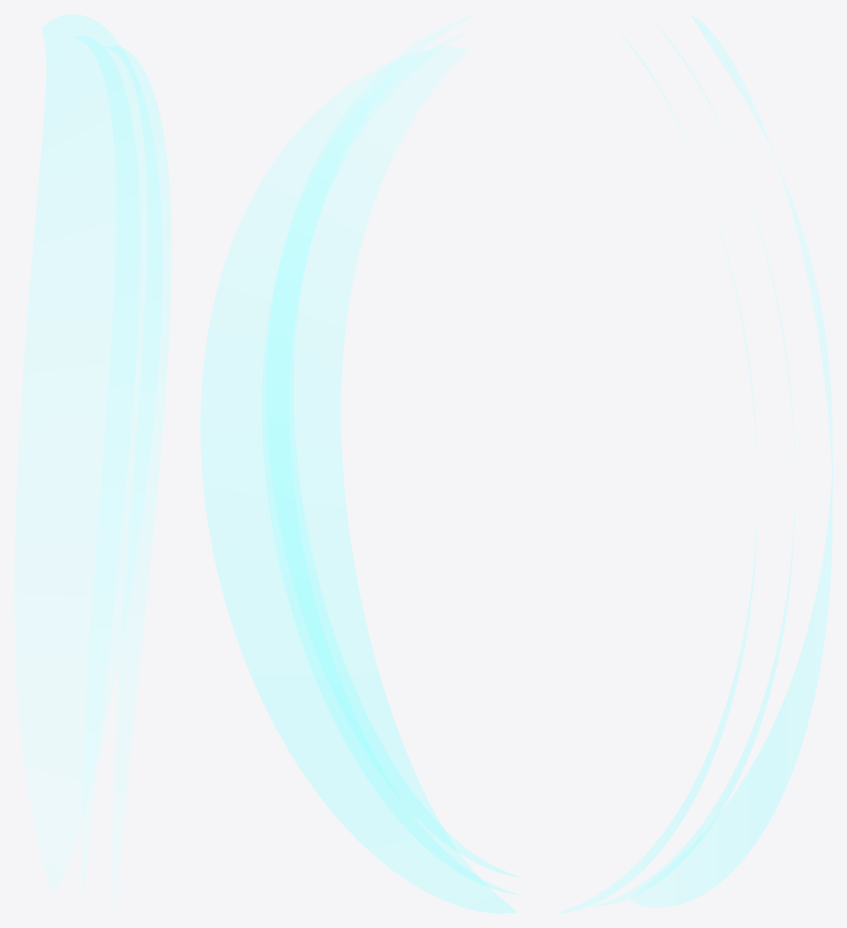
Rendered from qi-cleave-r3.glb.
The picture shows the model from 3 angles, left to right: view 1: azimuth 30°, elevation 25°; view 2: azimuth 150°, elevation 25°; view 3: azimuth 270°, elevation 25°; orthographic projection. The views are drawn at different scales.
Parts seen in each view (by area): view 1: qi-cleave-r3; view 2: qi-cleave-r3; view 3: qi-cleave-r3.
Boxes of the visible parts, x1=… form: qi-cleave-r3: x1=14, y1=14, x2=171, y2=909; qi-cleave-r3: x1=200, y1=15, x2=522, y2=913; qi-cleave-r3: x1=555, y1=14, x2=832, y2=913.
Size of the model in its own units: 0.5414 by 2.11 by 0.5945.
